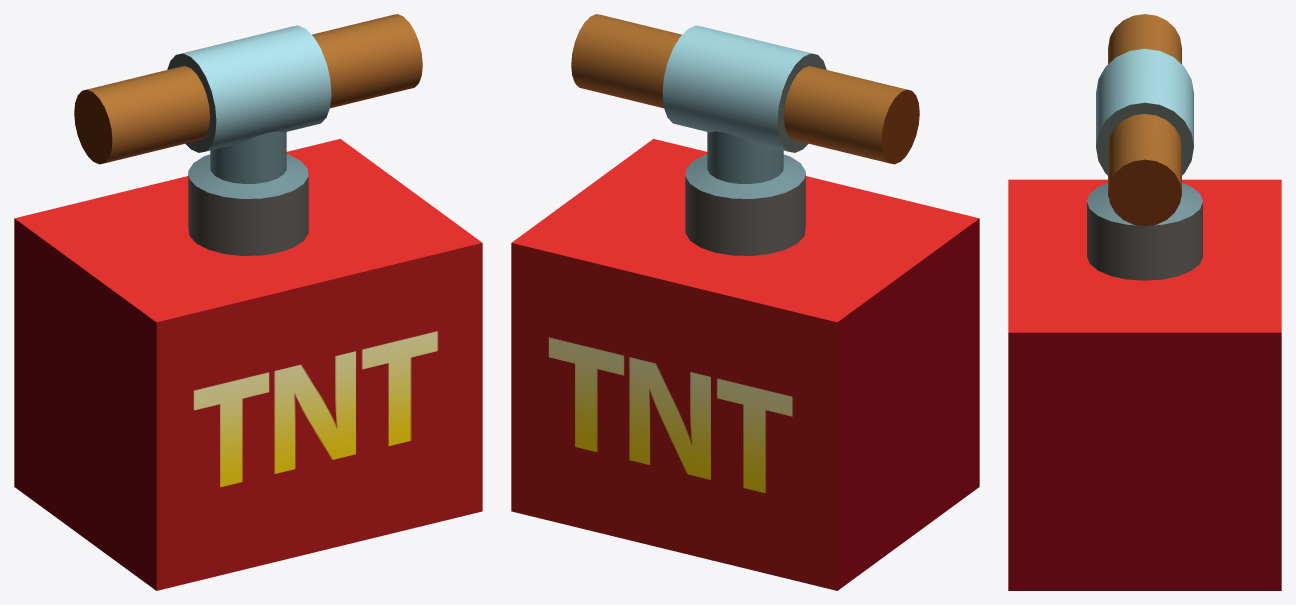
Rendered from TNT.fbx.
3 views of the same model, side by side, from view 1: azimuth 30°, elevation 25°; view 2: azimuth 150°, elevation 25°; view 3: azimuth 270°, elevation 25° (orthographic). The views are drawn at different scales.
Parts seen in each view (by area): view 1: TNT; view 2: TNT; view 3: TNT.
Part boxes in pixels (x1,y1,x2,y2): TNT: (14,14,482,590); TNT: (511,14,979,590); TNT: (1008,14,1281,590).
Size of the model in its own units: 240 by 320 by 181.
